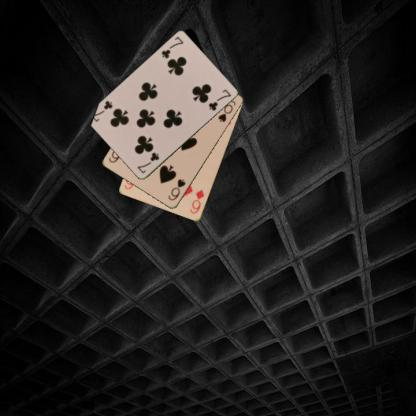6d: (188, 187, 206, 215)
6s: (165, 176, 187, 202)
7c: (159, 34, 185, 60), (134, 150, 160, 174)
